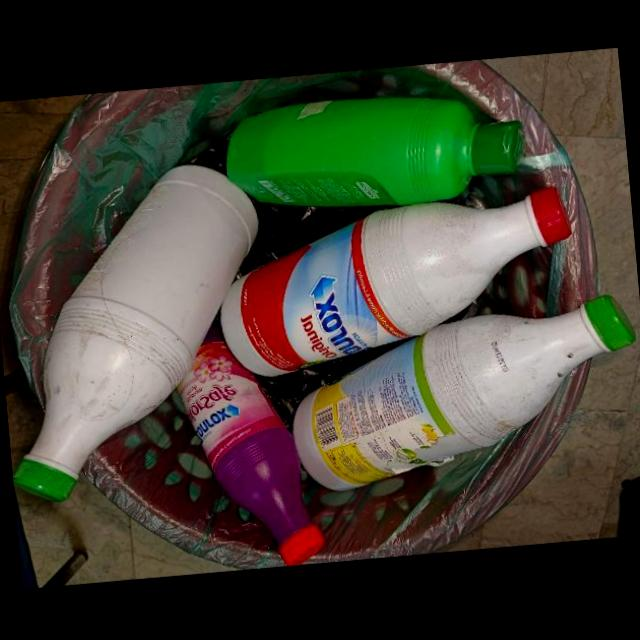chai_nhua: (12, 162, 260, 502), (292, 293, 636, 490), (220, 186, 574, 376), (176, 317, 324, 566), (226, 96, 524, 206)
